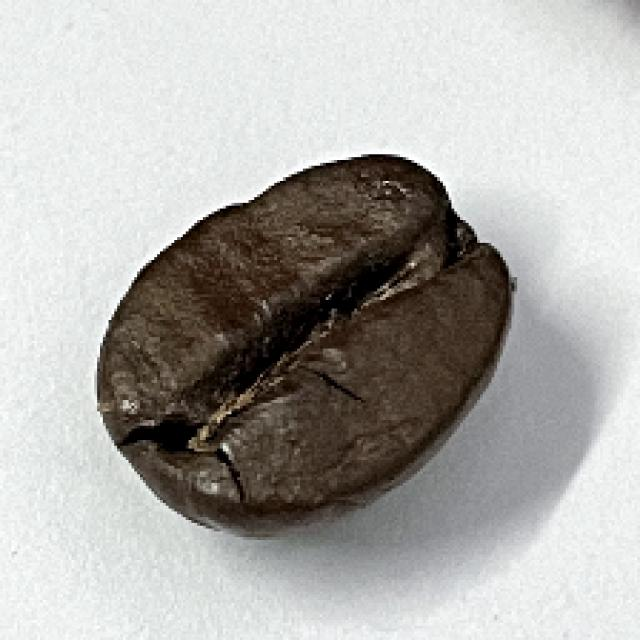bean: (90, 150, 517, 541)
